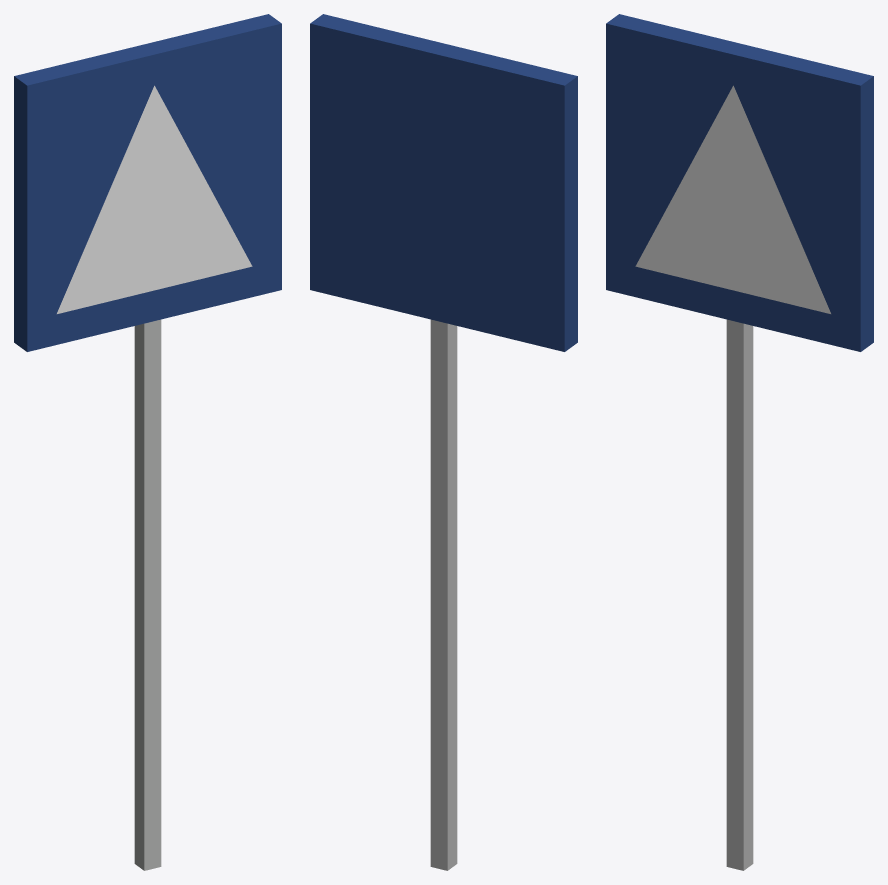
The model's file is Road_Sign_6.fbx.
3 views of the same model, side by side, from view 1: azimuth 30°, elevation 25°; view 2: azimuth 150°, elevation 25°; view 3: azimuth 330°, elevation 25° (orthographic).
Visible parts, largest first — view 1: Road_Sign_6; view 2: Road_Sign_6; view 3: Road_Sign_6.
Part boxes in pixels (x1,y1,x2,y2): Road_Sign_6: (14, 14, 281, 870); Road_Sign_6: (310, 14, 577, 870); Road_Sign_6: (606, 14, 873, 870).
Bounding box in the file's own units: 83.2 × 255 × 7.38.
1 material, 1 textured.
